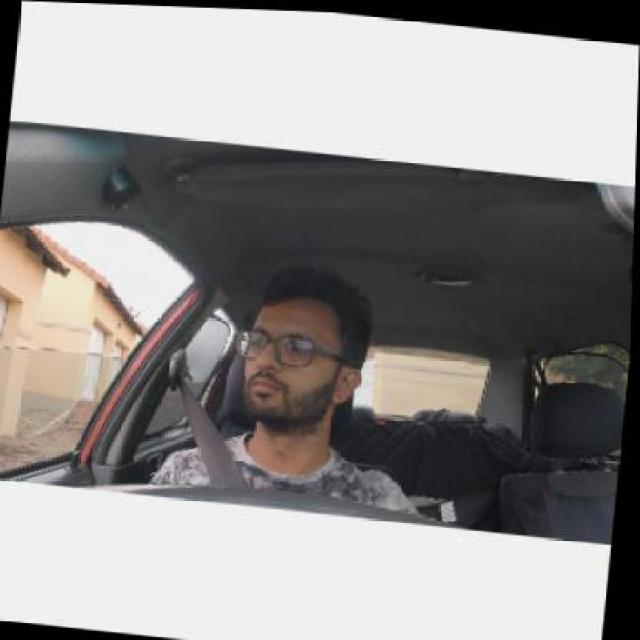LeftRight: (223, 269, 380, 451)
